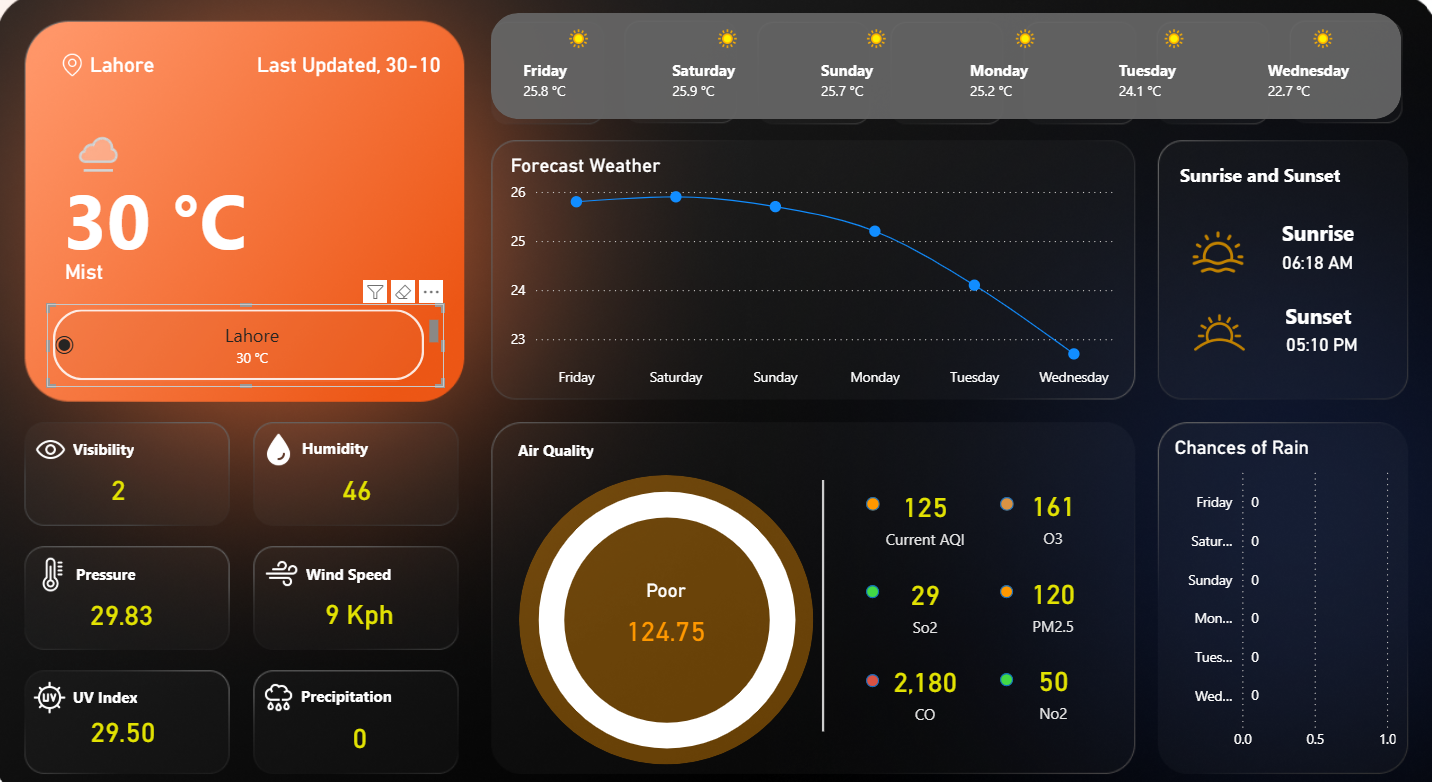

The page's visual inventory and layout, read from the dashboard file:
{"tool":"powerbi","page":{"name":"Page 1","canvas":[1280,720],"ordinal":0},"visuals":[{"type":"listSlicer","fields":{"Values":["Locations.location.name"]},"box":[45,273.8,352.5,73.8],"z":0},{"type":"image","box":[28.5,382.9,40,40],"z":0,"group":"g1"},{"type":"shape","box":[36.2,153.8,210,82.5],"z":1000},{"type":"shape","box":[68.5,383.7,67.5,37.5],"z":1000,"group":"g1"},{"type":"card","fields":{"Values":["Sum(Current.current.humidity)"]},"box":[290,418.8,60,40],"z":2000},{"type":"shape","box":[71.4,494.7,67.5,37.5],"z":2000,"group":"g1"},{"type":"shape","box":[83.8,43.8,92.5,37.5],"z":3000},{"type":"shape","box":[68.5,603.8,67.5,37.5],"z":3000,"group":"g1"},{"type":"shape","box":[1049.6,141.2,181,37.4],"z":4000},{"type":"shape","box":[271.5,382.7,67.5,37.5],"z":4000,"group":"g1"},{"type":"shape","box":[231.2,43.8,166.2,37.5],"z":5000},{"type":"shape","box":[274.7,494.2,82.5,37.5],"z":5000,"group":"g1"},{"type":"shape","box":[1135.3,269,75,30.2],"z":6000},{"type":"shape","box":[270.9,602.9,86.2,37.5],"z":6000,"group":"g1"},{"type":"image","box":[50,47,35,30],"z":7000},{"type":"group","id":"g1","title":"Group 1","box":[27.7,382.7,329.5,260],"z":7000,"group":"g2"},{"type":"image","box":[230.9,382.7,40,40],"z":7000,"group":"g1"},{"type":"cardVisual","fields":{"Data":["Min(Current.current.condition.icon)"]},"box":[45,101.2,95,60],"z":8000},{"type":"image","box":[30.7,493.7,40,40],"z":8000,"group":"g1"},{"type":"card","fields":{"Values":["Sum(Current.current.vis_km)"]},"box":[79.1,418.9,59.3,39.5],"z":9000},{"type":"image","box":[233.7,492.7,40,40],"z":9000,"group":"g1"},{"type":"card","fields":{"Values":["Sum(Current.current.pressure_in)"]},"box":[54.3,529.6,114.6,39.8],"z":10000},{"type":"image","box":[27.7,602.7,40,40],"z":10000,"group":"g1"},{"type":"card","fields":{"Values":["_Measures.Wind_Speed"]},"box":[264.2,528.4,115.8,39.8],"z":11000},{"type":"image","box":[230.7,602.7,40,40],"z":11000,"group":"g1"},{"type":"shape","box":[463.3,384.9,67.6,37.4],"z":12000},{"type":"card","fields":{"Values":["Sum(Current.current.heatindex_c)"]},"box":[55,633,115,40],"z":12000,"group":"g2"},{"type":"group","id":"g2","title":"Group 4","box":[27.7,382.7,352.2,295.3],"z":13000},{"type":"card","fields":{"Values":["Sum(Current.current.precip_mm)"]},"box":[265,638.5,114.9,39.5],"z":13000,"group":"g2"},{"type":"lineChart","title":"Forecast Weather","fields":{"Category":["Forecast_Day.Days"],"Y":["Sum(Forecast_Day.forecast.forecastday.day.avgtemp_c)"]},"box":[451.2,141.2,547.7,216],"z":14000},{"type":"shape","box":[1135.3,195.4,74.8,30.2],"z":15000},{"type":"image","box":[1049.6,264.2,70,70],"z":16000},{"type":"image","box":[1055.6,200.3,55.5,55.5],"z":17000},{"type":"barChart","title":"Chances of Rain","fields":{"Y":["Sum(Forecast_Day.forecast.forecastday.day.daily_chance_of_rain)"],"Category":["Forecast_Day.Days"]},"box":[1040,390.9,206.3,287.1],"z":18000},{"type":"card","fields":{"Values":["Sum(Current.current.air_quality.o3)"]},"box":[880,425,115.7,73.3],"z":19000},{"type":"card","fields":{"Values":["Sum(Current.current.air_quality.pm2_5)"]},"box":[880,502.9,115.7,73.3],"z":20000},{"type":"card","fields":{"Values":["Sum(Current.current.air_quality.no2)"]},"box":[880,580,115.7,73.3],"z":21000},{"type":"card","fields":{"Values":["_Left_value_PM1o.Current AQI"]},"box":[766,425.2,115.7,73.3],"z":22000},{"type":"card","fields":{"Values":["Sum(Current.current.air_quality.so2)"]},"box":[766.1,503.6,115.7,73.3],"z":23000},{"type":"card","fields":{"Values":["Sum(Current.current.air_quality.co)"]},"box":[766.1,580.7,115.7,73.3],"z":24000},{"type":"shape","box":[890,445,12.3,12.3],"z":25000},{"type":"shape","box":[890,523,11.7,11.7],"z":26000},{"type":"shape","box":[771,445,12.3,12.3],"z":27000},{"type":"shape","box":[771.7,523.3,11.7,11.7],"z":28000},{"type":"shape","box":[771.7,601.7,11.7,11.7],"z":29000},{"type":"shape","box":[890,601,11.7,11.7],"z":30000},{"type":"shape","box":[706.7,430,53.3,223.3],"z":31000},{"type":"shape","box":[463.7,425.8,261,256.6],"z":33000},{"type":"shape","box":[61,227,92,37],"z":34000},{"type":"shape","box":[1140,218,92,37],"z":35000},{"type":"shape","box":[1143.7,290.8,91.7,37.4],"z":36000},{"type":"shape","box":[439.1,15.7,807.1,94.1],"z":37000},{"type":"advancedSlicerVisual","fields":{"Values":["Forecast_Day.Days"]},"box":[449.1,17.5,796.2,93.3],"z":38000},{"type":"donutChart","fields":{"Y":["Sum(Current.current.air_quality.pm10)","_Left_value_PM1o.Left_val_pm10"]},"box":[443.3,406.8,303.3,294.6],"z":39000},{"type":"card","fields":{"Values":["Sum(Current.current.air_quality.pm10)"]},"box":[536.6,517.7,115.2,72.9],"z":39500}]}

Visuals, with their boxes on the page's 1280x720 design canvas (x1, y1, x2, y2). These are canvas units, not pixel positions in the 1432x782 screenshot, which may show the page scaled, cropped or inside an application window:
listSlicer - Locations.location.name: <box>45,274,398,348</box>
image: <box>28,383,68,423</box>
shape: <box>36,154,246,236</box>
shape: <box>68,384,136,421</box>
card - Sum(Current.current.humidity): <box>290,419,350,459</box>
shape: <box>71,495,139,532</box>
shape: <box>84,44,176,81</box>
shape: <box>68,604,136,641</box>
shape: <box>1050,141,1231,179</box>
shape: <box>272,383,339,420</box>
shape: <box>231,44,397,81</box>
shape: <box>275,494,357,532</box>
shape: <box>1135,269,1210,299</box>
shape: <box>271,603,357,640</box>
image: <box>50,47,85,77</box>
"Group 1" group: <box>28,383,357,643</box>
image: <box>231,383,271,423</box>
cardVisual - Min(Current.current.condition.icon): <box>45,101,140,161</box>
image: <box>31,494,71,534</box>
card - Sum(Current.current.vis_km): <box>79,419,138,458</box>
image: <box>234,493,274,533</box>
card - Sum(Current.current.pressure_in): <box>54,530,169,569</box>
image: <box>28,603,68,643</box>
card - _Measures.Wind_Speed: <box>264,528,380,568</box>
image: <box>231,603,271,643</box>
shape: <box>463,385,531,422</box>
card - Sum(Current.current.heatindex_c): <box>55,633,170,673</box>
"Group 4" group: <box>28,383,380,678</box>
card - Sum(Current.current.precip_mm): <box>265,638,380,678</box>
"Forecast Weather" lineChart: <box>451,141,999,357</box>
shape: <box>1135,195,1210,226</box>
image: <box>1050,264,1120,334</box>
image: <box>1056,200,1111,256</box>
"Chances of Rain" barChart: <box>1040,391,1246,678</box>
card - Sum(Current.current.air_quality.o3): <box>880,425,996,498</box>
card - Sum(Current.current.air_quality.pm2_5): <box>880,503,996,576</box>
card - Sum(Current.current.air_quality.no2): <box>880,580,996,653</box>
card - _Left_value_PM1o.Current AQI: <box>766,425,882,498</box>
card - Sum(Current.current.air_quality.so2): <box>766,504,882,577</box>
card - Sum(Current.current.air_quality.co): <box>766,581,882,654</box>
shape: <box>890,445,902,457</box>
shape: <box>890,523,902,535</box>
shape: <box>771,445,783,457</box>
shape: <box>772,523,783,535</box>
shape: <box>772,602,783,613</box>
shape: <box>890,601,902,613</box>
shape: <box>707,430,760,653</box>
shape: <box>464,426,725,682</box>
shape: <box>61,227,153,264</box>
shape: <box>1140,218,1232,255</box>
shape: <box>1144,291,1235,328</box>
shape: <box>439,16,1246,110</box>
advancedSlicerVisual - Forecast_Day.Days: <box>449,18,1245,111</box>
donutChart - Sum(Current.current.air_quality.pm10) x _Left_value_PM1o.Left_val_pm10: <box>443,407,747,701</box>
card - Sum(Current.current.air_quality.pm10): <box>537,518,652,591</box>
